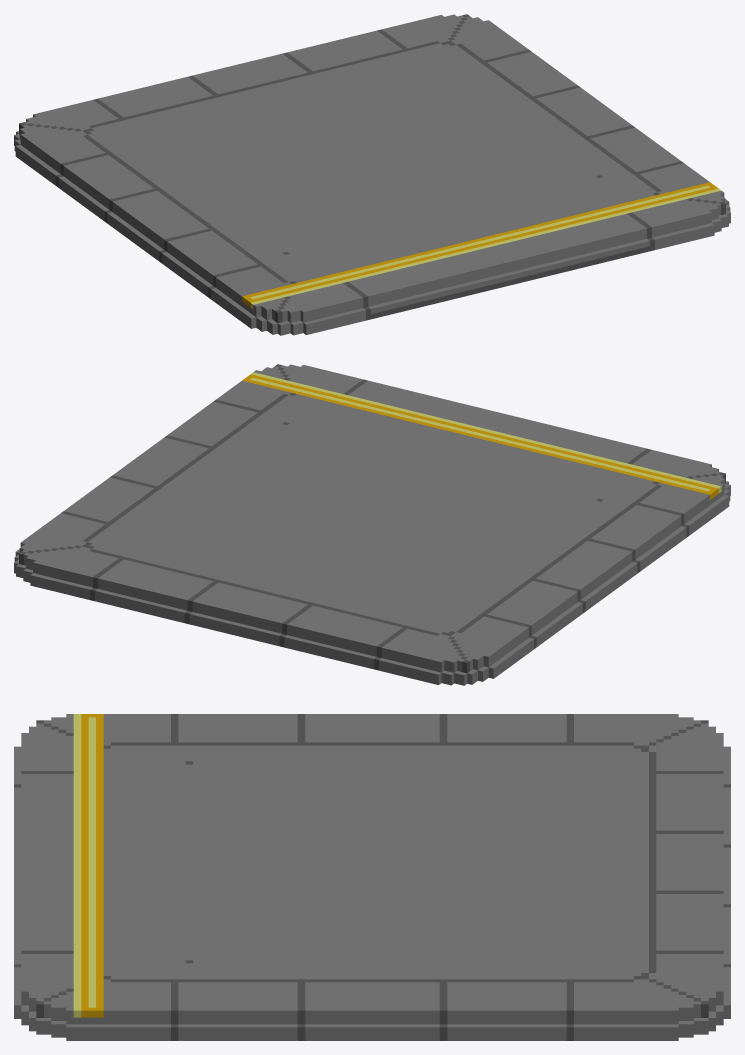
Rendered from baseSix.glb.
3 renders of one model, top to bottom at view 1: azimuth 30°, elevation 25°; view 2: azimuth 150°, elevation 25°; view 3: azimuth 270°, elevation 25°, orthographic. The views are drawn at different scales.
Visible parts, largest first — view 1: ObjObject; view 2: ObjObject; view 3: ObjObject.
Boxes of the visible parts, x1,y1,x2,y2 form: ObjObject: [14, 14, 730, 335]; ObjObject: [14, 364, 730, 685]; ObjObject: [14, 714, 730, 1040].
Bounding box in the file's own units: 9.6 × 0.4 × 9.6.
Materials: 1 (1 with a texture image).
